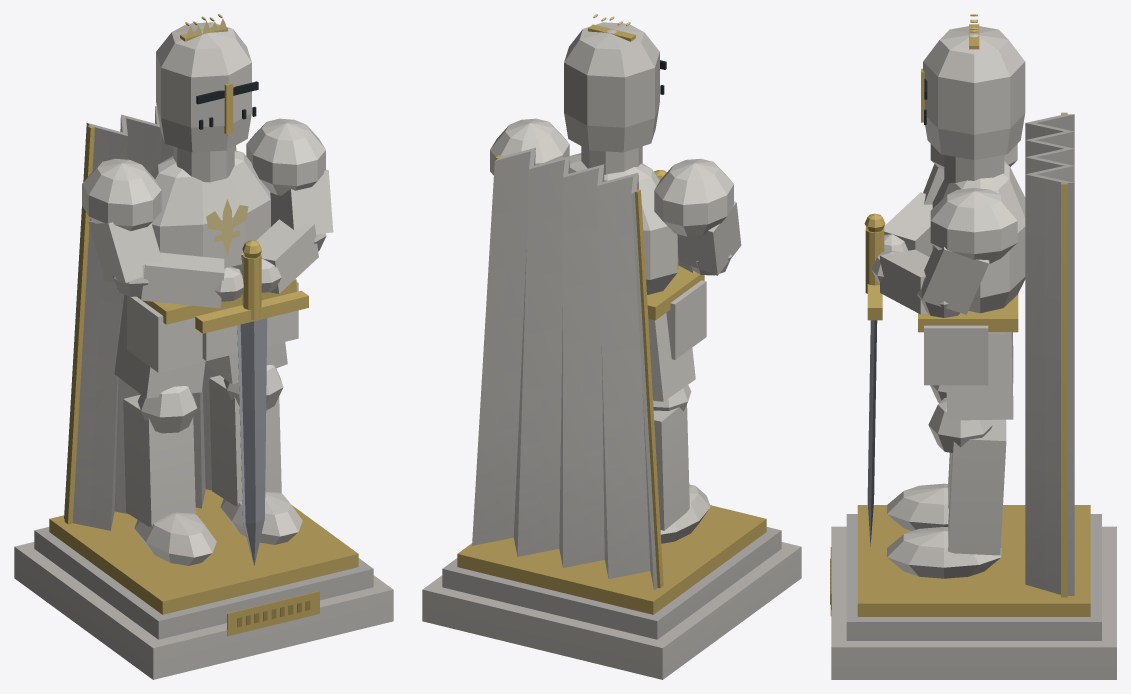
The model's file is palace_statue_knight.glb.
The picture shows the model from 3 angles, left to right: view 1: azimuth 30°, elevation 25°; view 2: azimuth 150°, elevation 25°; view 3: azimuth 270°, elevation 25°; orthographic projection. The views are drawn at different scales.
Visible parts, largest first — view 1: palace_statue_knight; view 2: palace_statue_knight; view 3: palace_statue_knight.
Part boxes in pixels (<box>): palace_statue_knight: <box>14,14,393,679</box>; palace_statue_knight: <box>422,14,801,679</box>; palace_statue_knight: <box>830,14,1116,679</box>.
Bounding box in the file's own units: 1.9 × 4.4 × 1.91.
